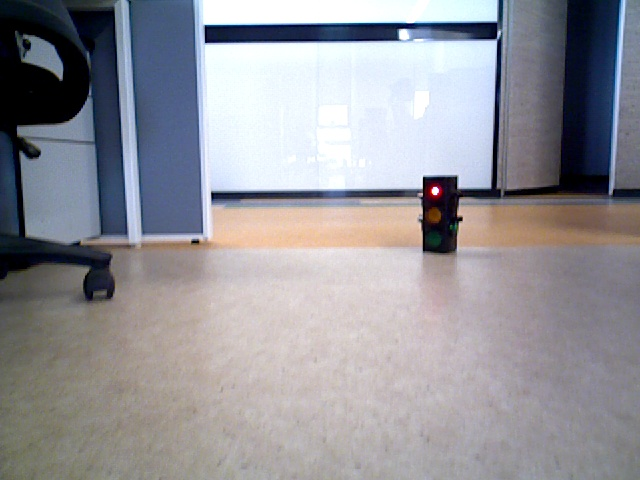red: (424, 176, 451, 251)
